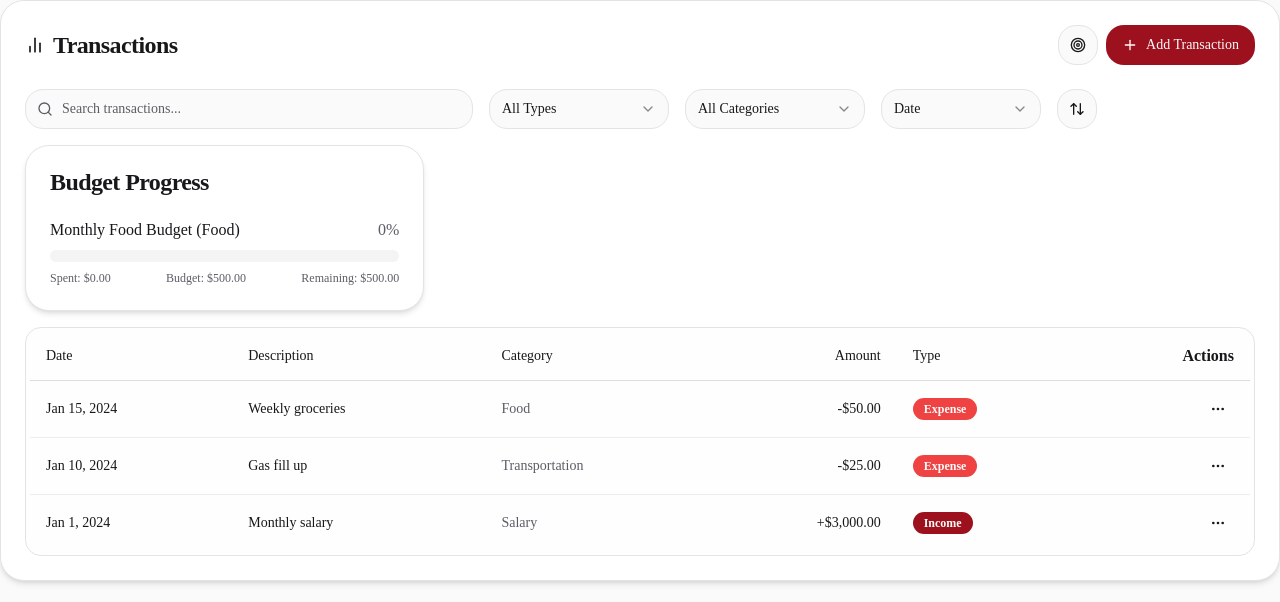
Test: FinanceListView › shows empty state when no entries match filter
The image size is (1280, 602).
Type "nonexistent" into the field with placeholder "Search transactions...". click: {"x": 249, "y": 109}
box: [25,89,473,129]
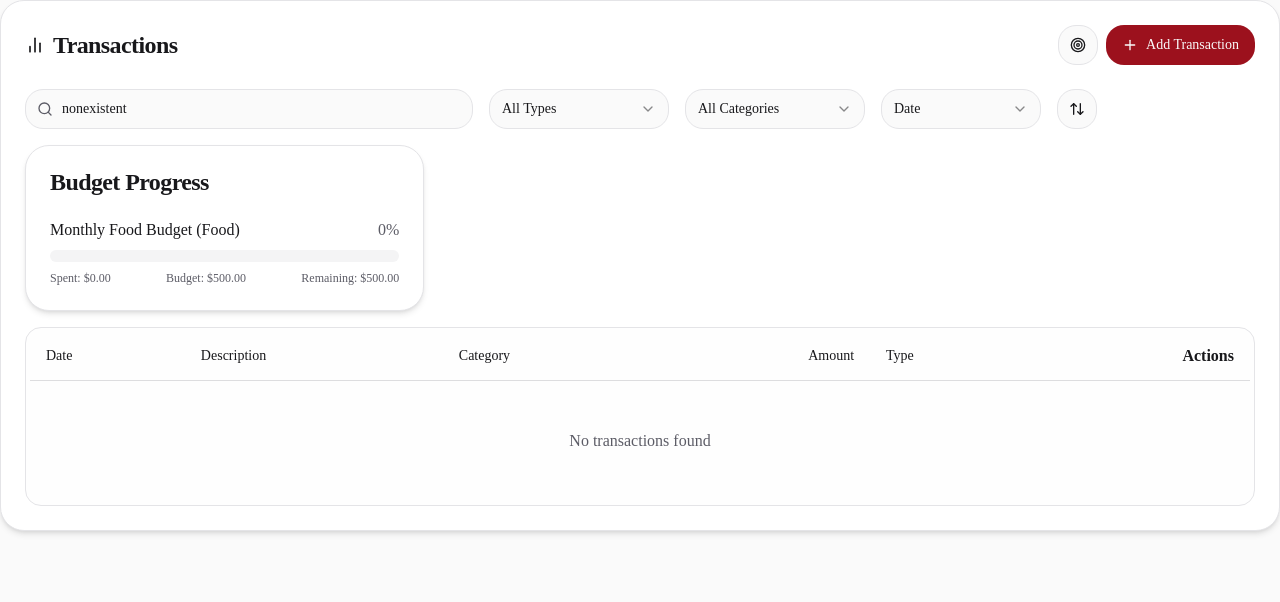
Check: the text "No transactions found" is shown, box [30,380,1250,501]
